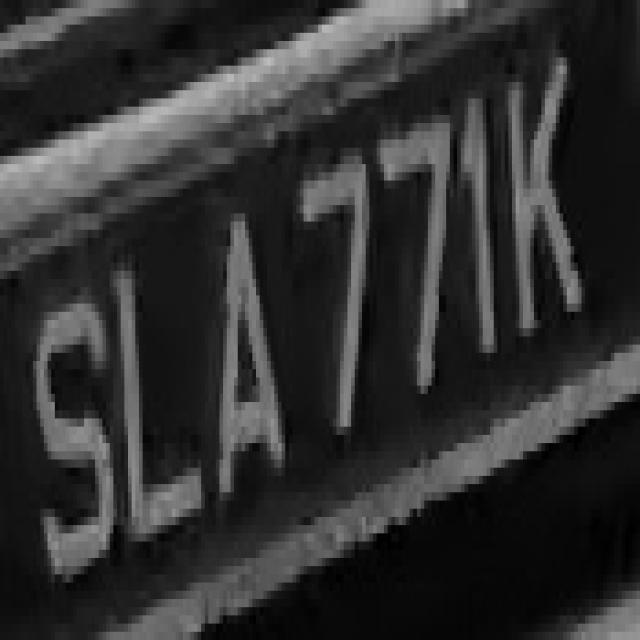1: (461, 82, 501, 402)
7: (358, 99, 464, 426), (292, 140, 380, 460)
A: (190, 172, 293, 550)
K: (494, 33, 592, 361)
L: (110, 230, 201, 591)
S: (29, 296, 121, 582)
